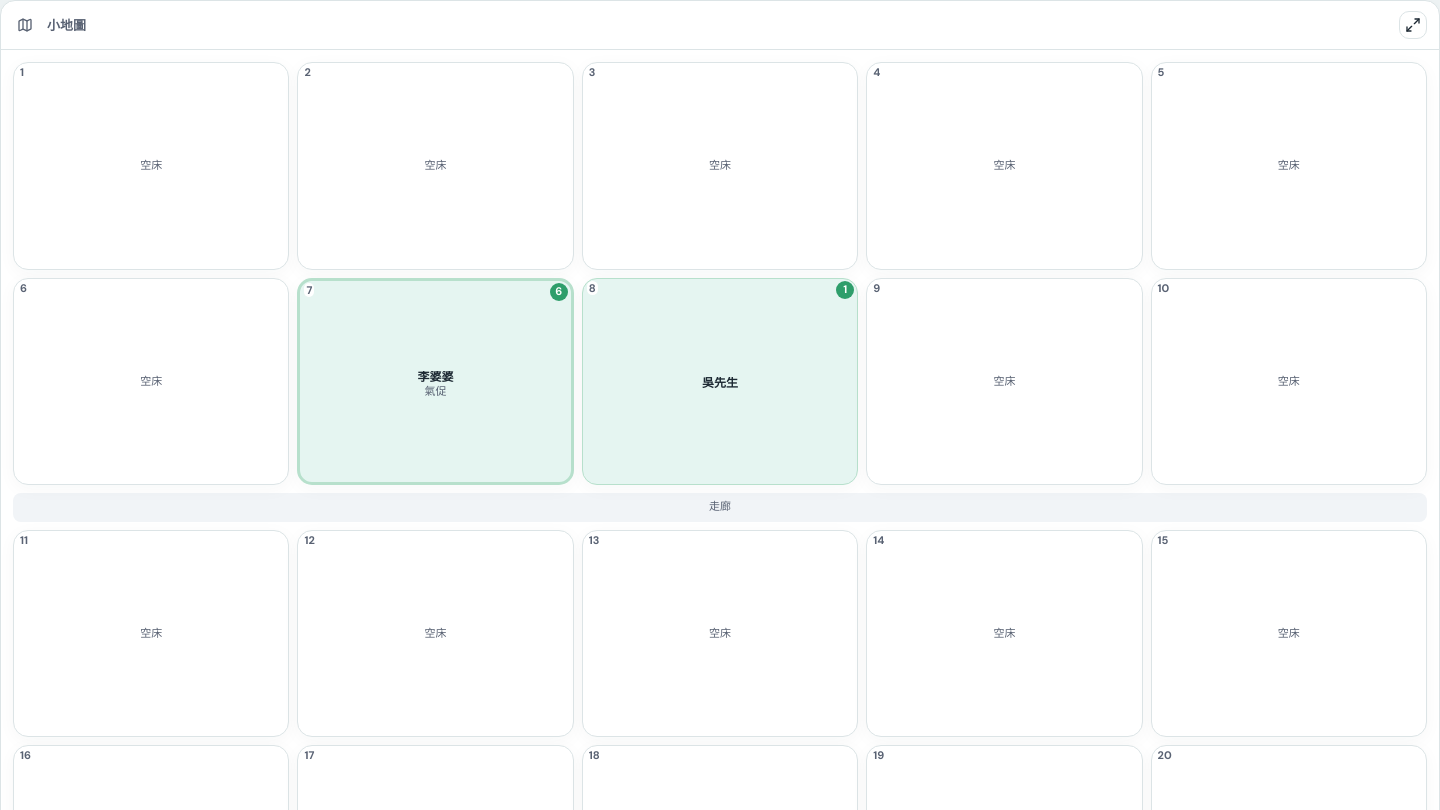
Test: 房間取代平面圖 › 展開中的平面圖進入茶水間後收起，返回病房先見小地圖
Later steps or results of the test are not shown.
Click the button with test id "open-floorplan": (1413, 25) x1=1399 y1=11 x2=1427 y2=39
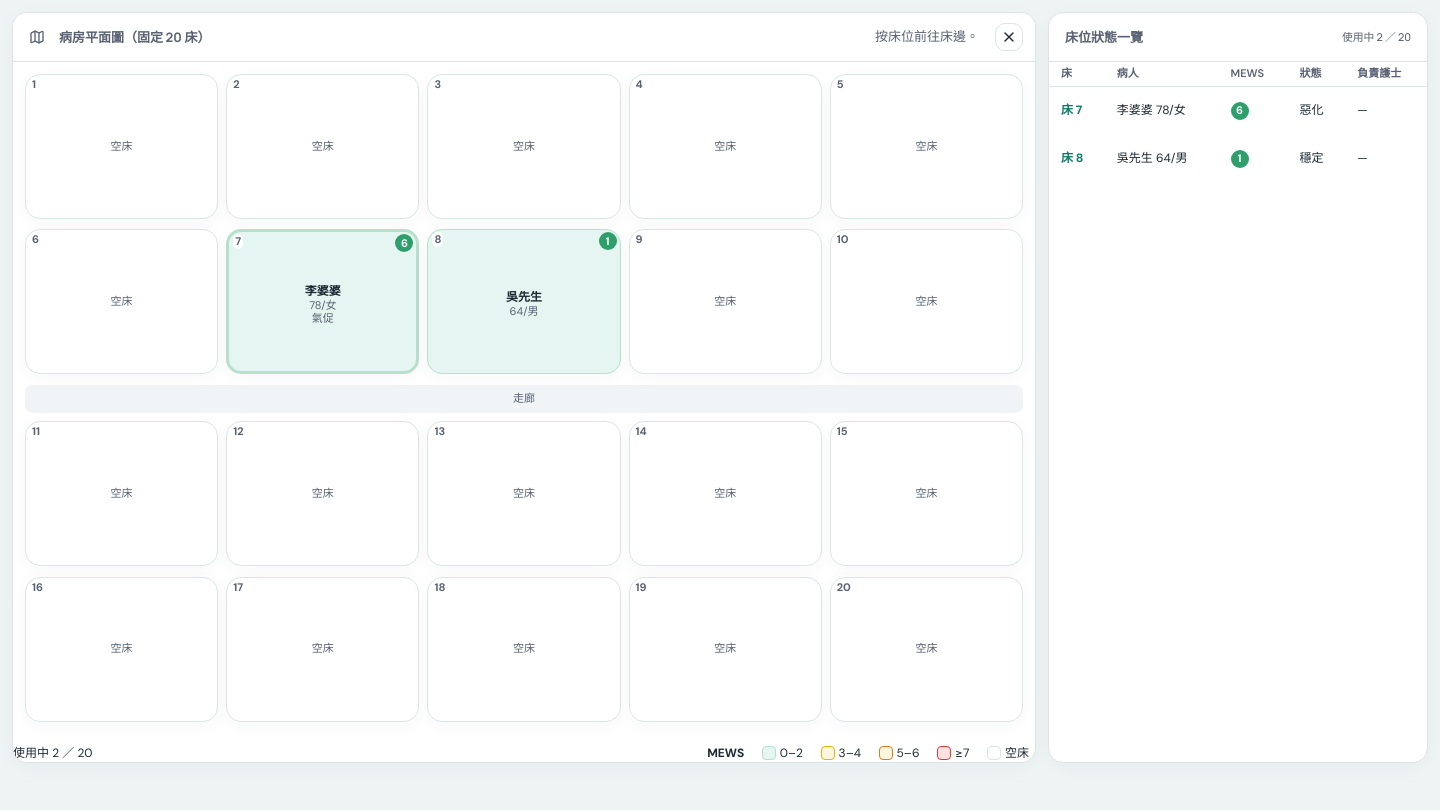
Expected: the element with test id "bed-table" is shown, x1=1048 y1=12 x2=1428 y2=763
